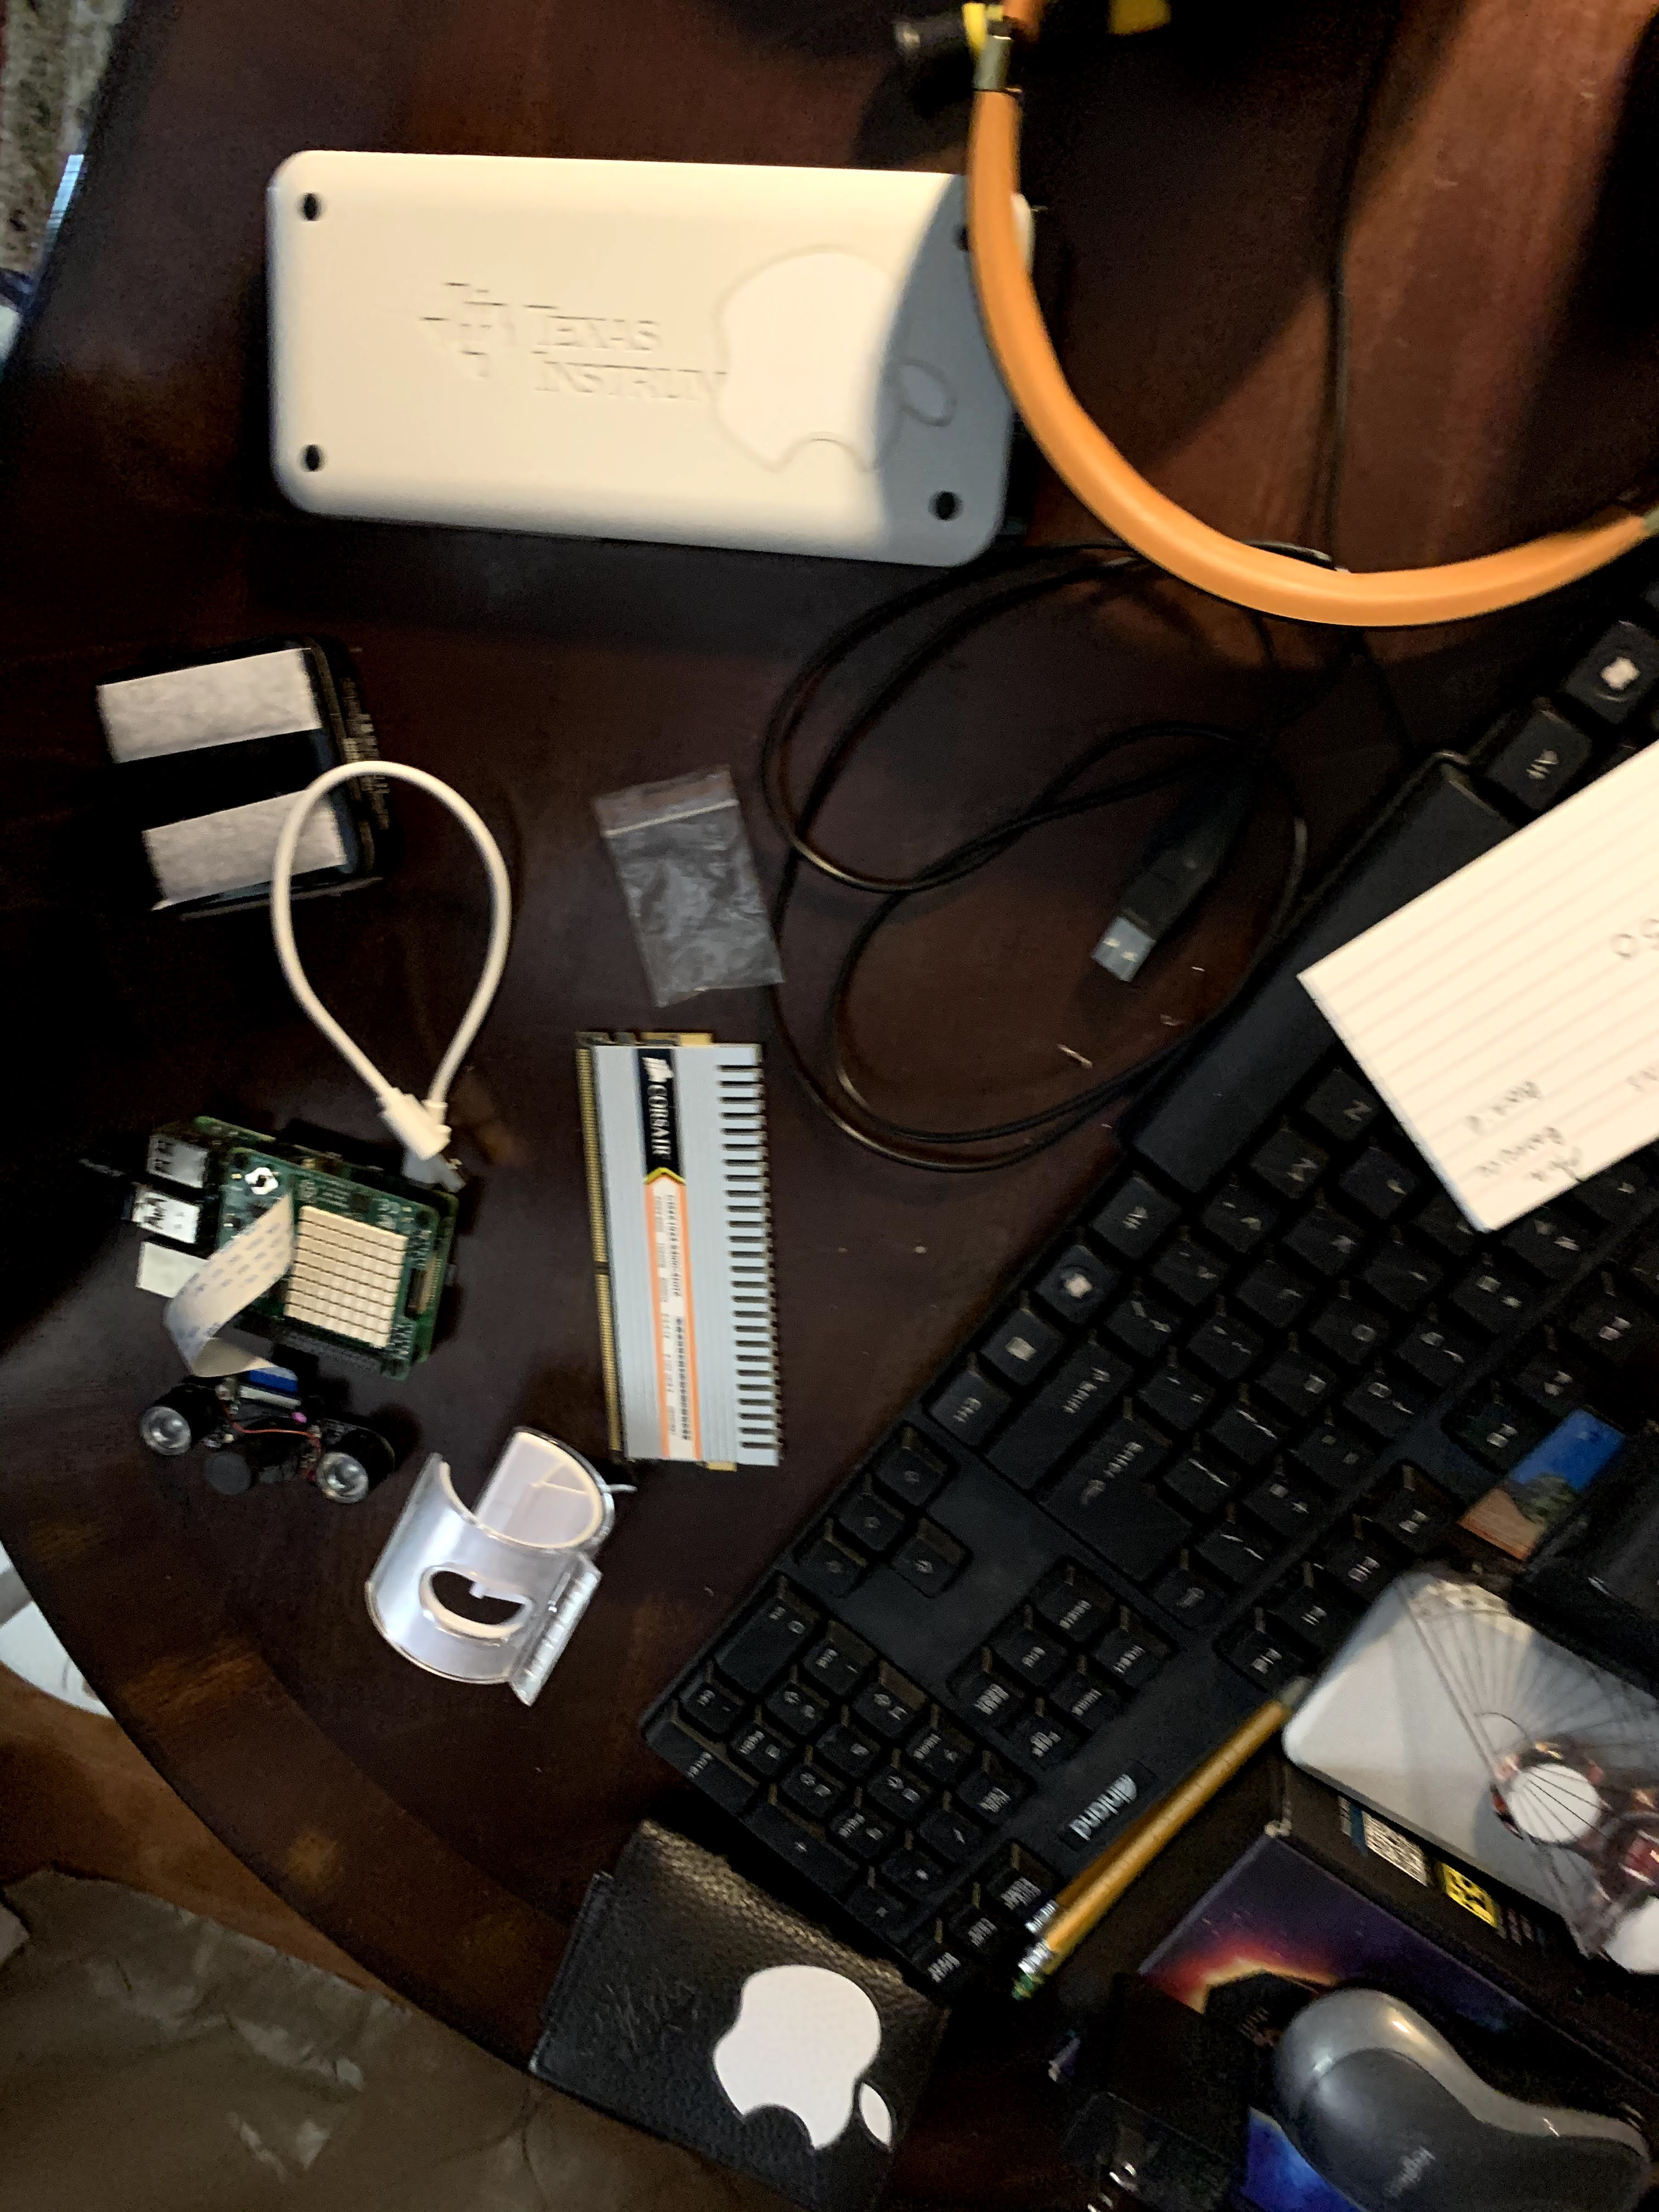Space-debris-medium: (523, 998, 831, 1480)
